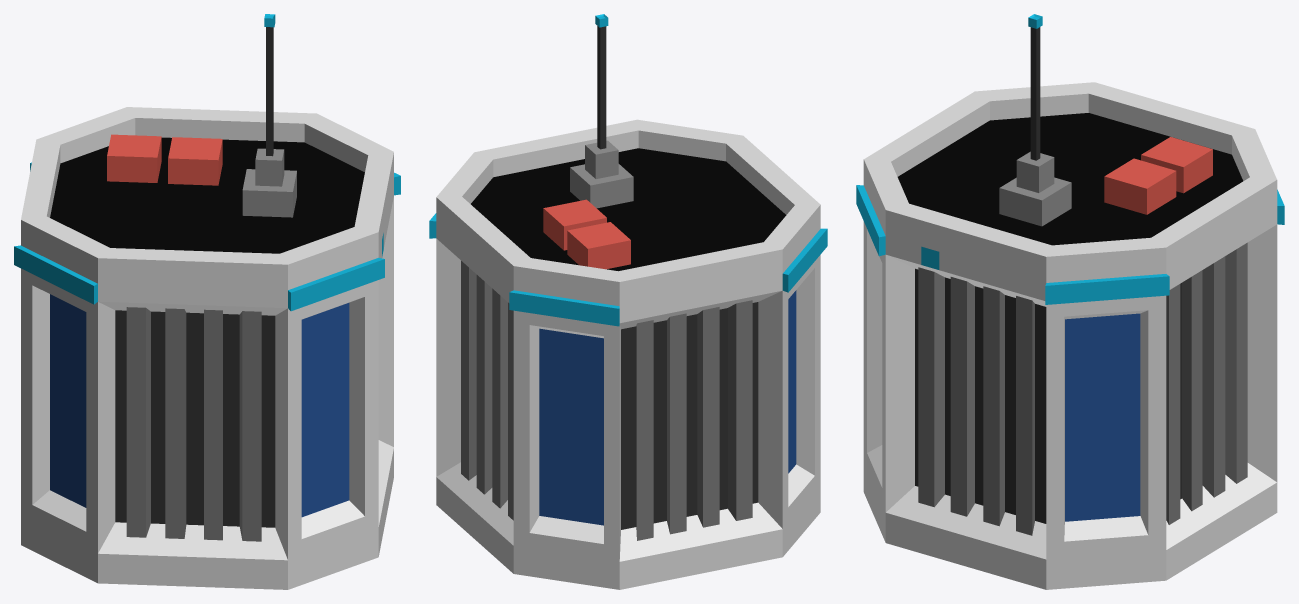
File: Gedung1.fbx
3 renders of one model, left to right at view 1: azimuth 30°, elevation 25°; view 2: azimuth 150°, elevation 25°; view 3: azimuth 270°, elevation 25°, orthographic. The views are drawn at different scales.
Parts seen in each view (by area): view 1: Cube.014; view 2: Cube.014; view 3: Cube.014.
Boxes of the visible parts, x1,y1,x2,y2 form: Cube.014: (14, 14, 400, 589); Cube.014: (429, 14, 827, 589); Cube.014: (856, 14, 1284, 589).
Size of the model in its own units: 177 by 232 by 177.
